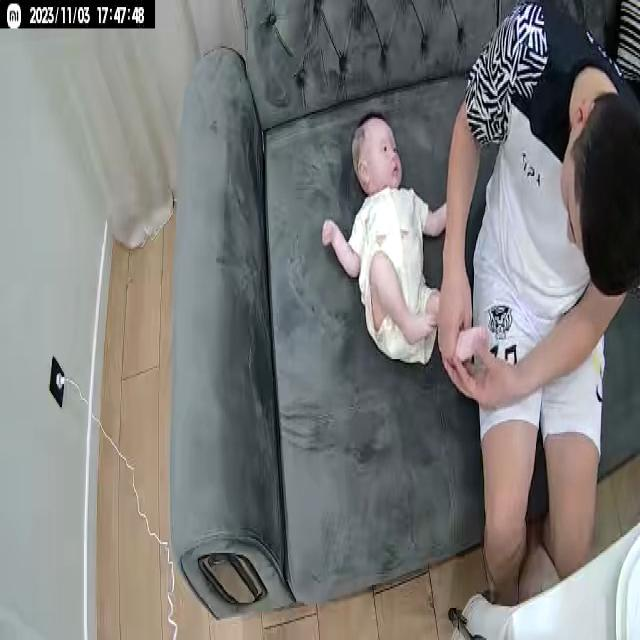baby: (318, 114, 490, 380)
